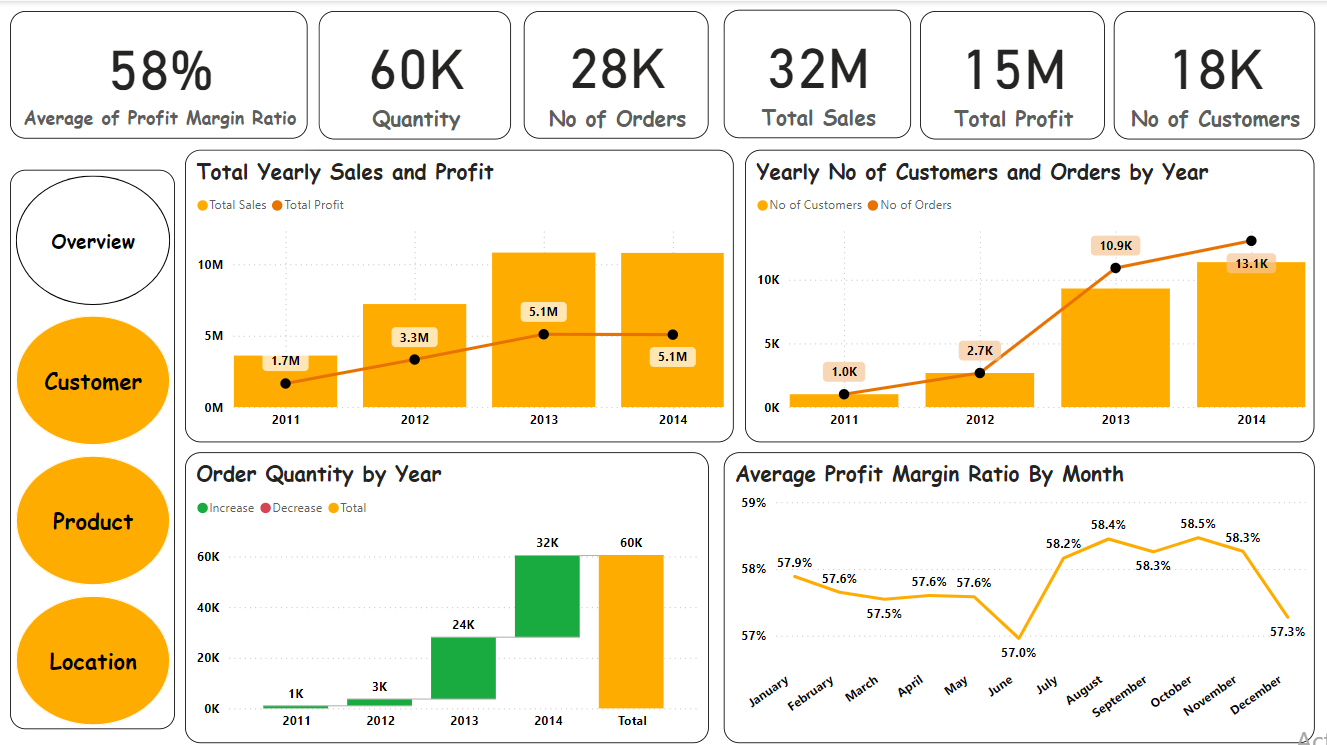

What the dashboard file says about the page in this screenshot:
{"tool":"powerbi","page":{"name":"Overview","canvas":[1280,720],"ordinal":0},"visuals":[{"type":"card","fields":{"Values":["My Measures.Total Sales"]},"box":[698.3,8.4,180.9,124.2],"z":0},{"type":"card","fields":{"Values":["My Measures.Total Profit"]},"box":[887.6,9.6,178.5,124.2],"z":1000},{"type":"card","fields":{"Values":["My Measures.Quantity"]},"box":[307.5,9.6,185.7,124.2],"z":2000},{"type":"card","fields":{"Values":["My Measures.No of Orders"]},"box":[505.3,9.6,178.5,123],"z":3000},{"type":"card","fields":{"Values":["My Measures.No of Customers"]},"box":[1074.6,9.6,194.2,124.2],"z":4000},{"type":"lineStackedColumnComboChart","title":"Yearly No of Customers and Orders by Year","fields":{"Category":["InternetSale.OrderDate.Variation.Date Hierarchy.Year","InternetSale.OrderDate.Variation.Date Hierarchy.Quarter","InternetSale.OrderDate.Variation.Date Hierarchy.Month","InternetSale.OrderDate.Variation.Date Hierarchy.Day"],"Y":["My Measures.No of Customers"],"Y2":["My Measures.No of Orders"]},"box":[718.8,143.5,549.9,282.2],"z":5000},{"type":"lineStackedColumnComboChart","title":"Total Yearly Sales and Profit","fields":{"Category":["InternetSale.OrderDate.Variation.Date Hierarchy.Year","InternetSale.OrderDate.Variation.Date Hierarchy.Quarter","InternetSale.OrderDate.Variation.Date Hierarchy.Month","InternetSale.OrderDate.Variation.Date Hierarchy.Day"],"Y":["My Measures.Total Sales"],"Y2":["My Measures.Total Profit"]},"box":[178.5,143.5,529.4,282.2],"z":6000},{"type":"lineChart","title":"Average Profit Margin Ratio By Month","fields":{"Category":["InternetSale.OrderDate.Variation.Date Hierarchy.Year","InternetSale.OrderDate.Variation.Date Hierarchy.Quarter","InternetSale.OrderDate.Variation.Date Hierarchy.Month","InternetSale.OrderDate.Variation.Date Hierarchy.Day"],"Y":["Avg(InternetSale.Profit Margin Ratio)"]},"box":[698.3,435.4,570.5,281],"z":7000},{"type":"waterfallChart","title":"Order Quantity by Year","fields":{"Category":["InternetSale.OrderDate.Variation.Date Hierarchy.Year","InternetSale.OrderDate.Variation.Date Hierarchy.Quarter","InternetSale.OrderDate.Variation.Date Hierarchy.Month","InternetSale.OrderDate.Variation.Date Hierarchy.Day"],"Y":["Sum(InternetSale.OrderQuantity)"]},"box":[178.5,435.4,505.3,281],"z":8000},{"type":"card","fields":{"Values":["Avg(InternetSale.Profit Margin Ratio)"]},"box":[9.6,9.6,287,123],"z":9000},{"type":"pageNavigator","box":[9.6,162.8,159.2,540.3],"z":11000}]}

Visuals, with their boxes in screenshot pixels (x1, y1, x2, y2), scaled from the page's 1280x720 canvas onto the 1327x745 screenshot:
card - My Measures.Total Sales: 724:9:911:137
card - My Measures.Total Profit: 920:10:1105:138
card - My Measures.Quantity: 319:10:511:138
card - My Measures.No of Orders: 524:10:709:137
card - My Measures.No of Customers: 1114:10:1315:138
"Yearly No of Customers and Orders by Year" lineStackedColumnComboChart: 745:148:1315:440
"Total Yearly Sales and Profit" lineStackedColumnComboChart: 185:148:734:440
"Average Profit Margin Ratio By Month" lineChart: 724:451:1315:741
"Order Quantity by Year" waterfallChart: 185:451:709:741
card - Avg(InternetSale.Profit Margin Ratio): 10:10:307:137
pageNavigator: 10:168:175:728
